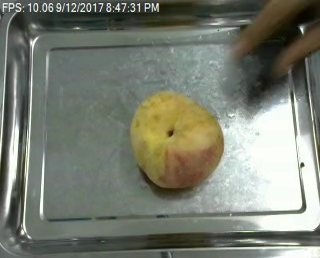Peach: (129, 90, 224, 190)
